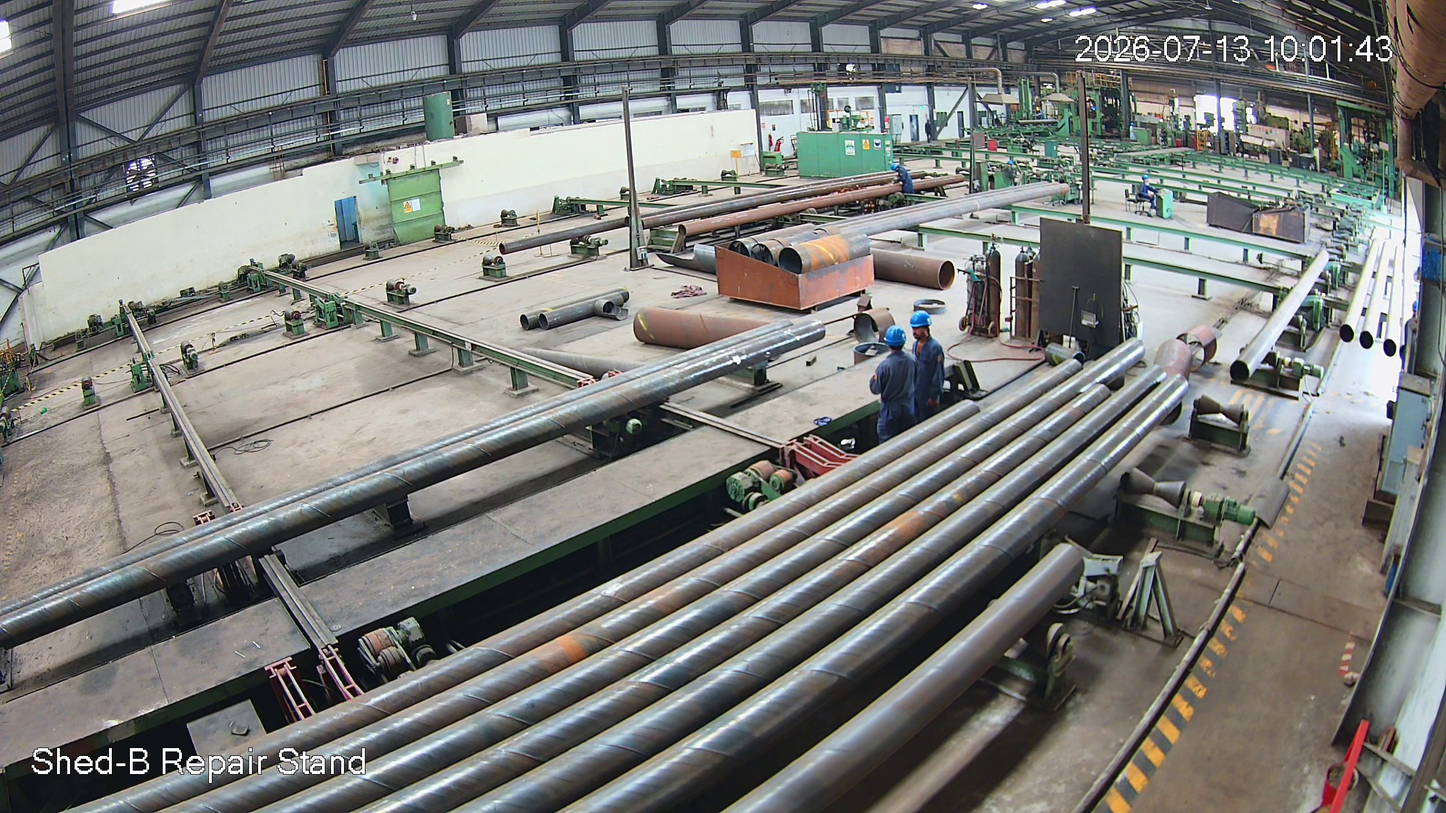Helmet: (907, 308, 938, 345), (883, 323, 911, 358)
Person: (873, 326, 917, 442), (907, 313, 948, 416)
